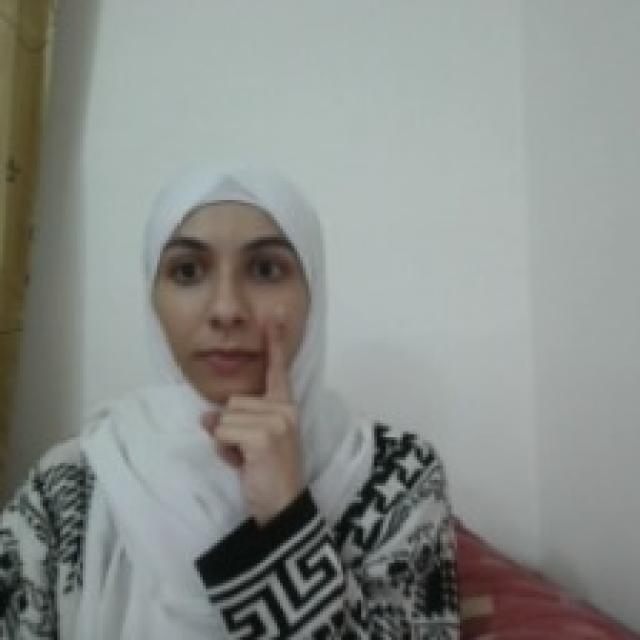mother: (191, 304, 307, 514)
